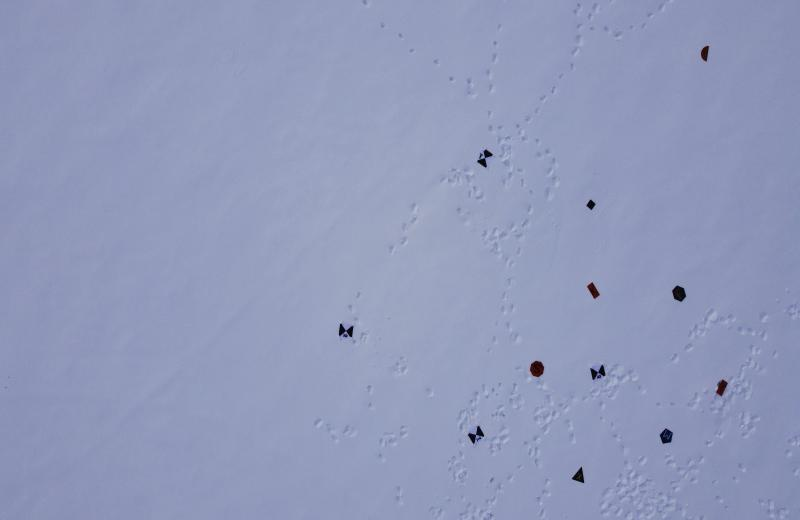Hexagon: (671, 284, 687, 303)
Octagon: (529, 360, 545, 377)
Pentagon: (659, 428, 673, 444)
Rectangle: (586, 282, 601, 299), (716, 378, 728, 397)
Semi Circle: (700, 45, 710, 62)
Square: (586, 199, 596, 210)
Triangle: (572, 466, 586, 484)
